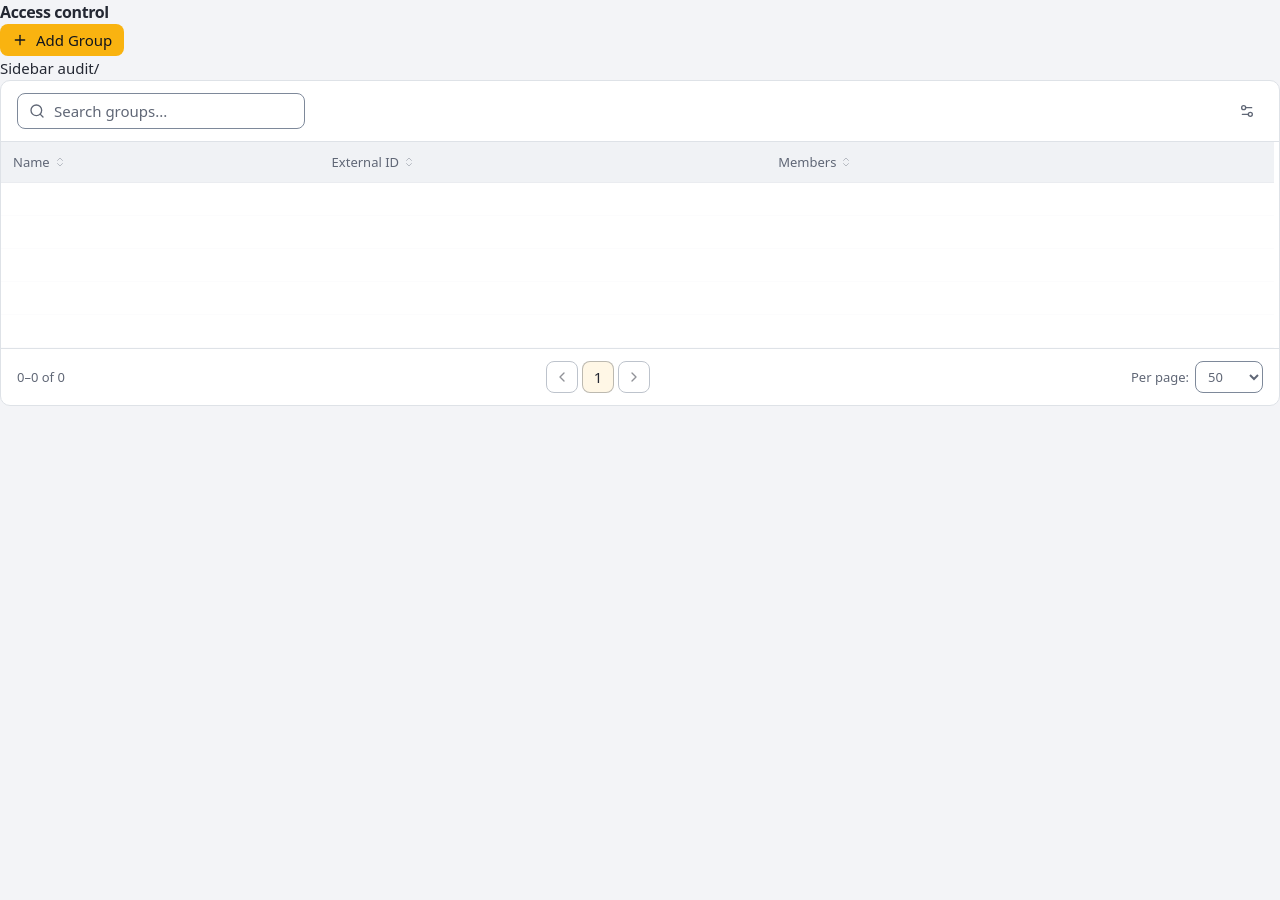
Test case: group editor › owns the visible page heading and associates its fields
Click the button "Add Group" at (62, 40), box x1=0 y1=24 x2=124 y2=56
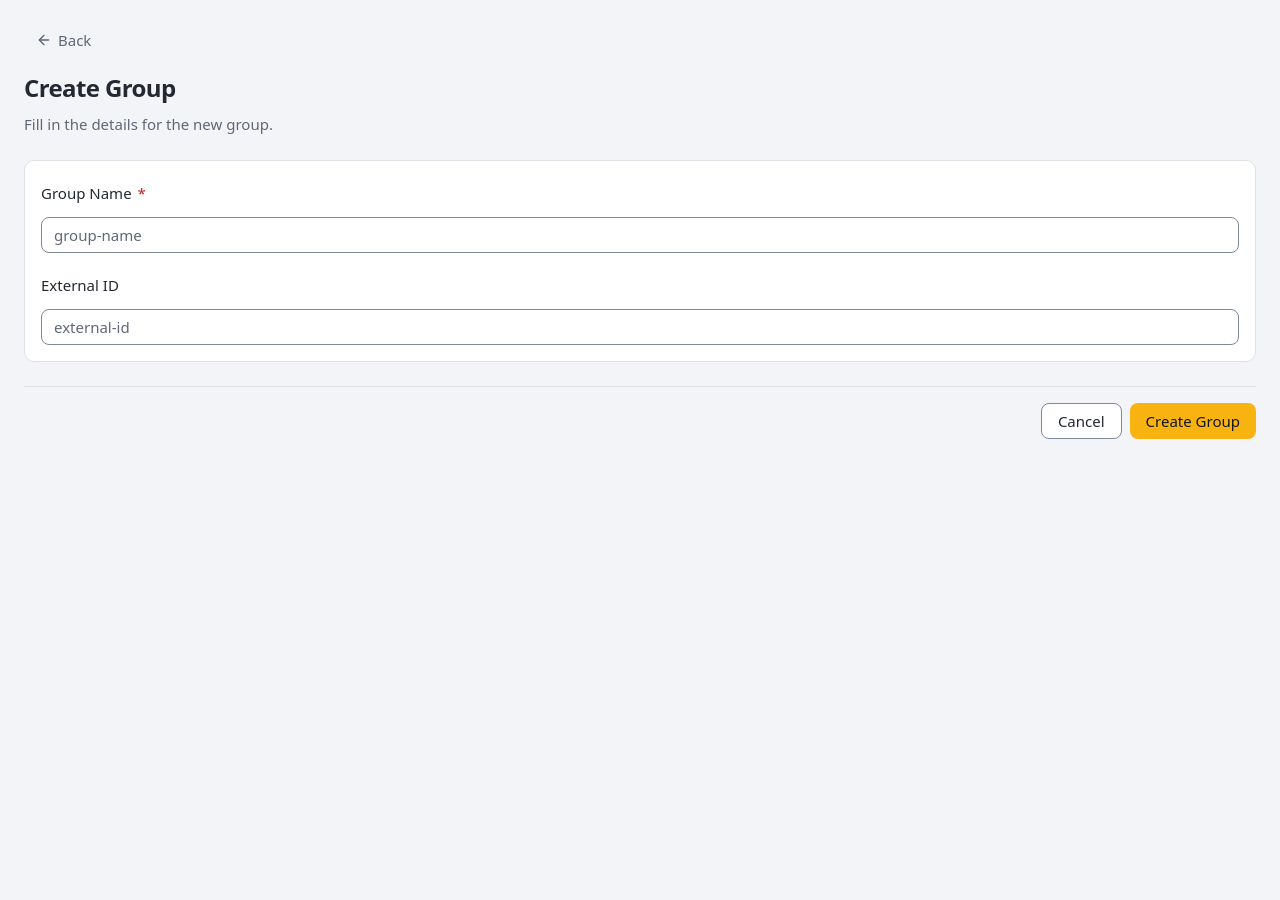
Now the heading "Create Group" is shown, box x1=24 y1=71 x2=176 y2=104
Type "Draft" into the field labelled "Group Name *" at (640, 235), box x1=41 y1=217 x2=1239 y2=253
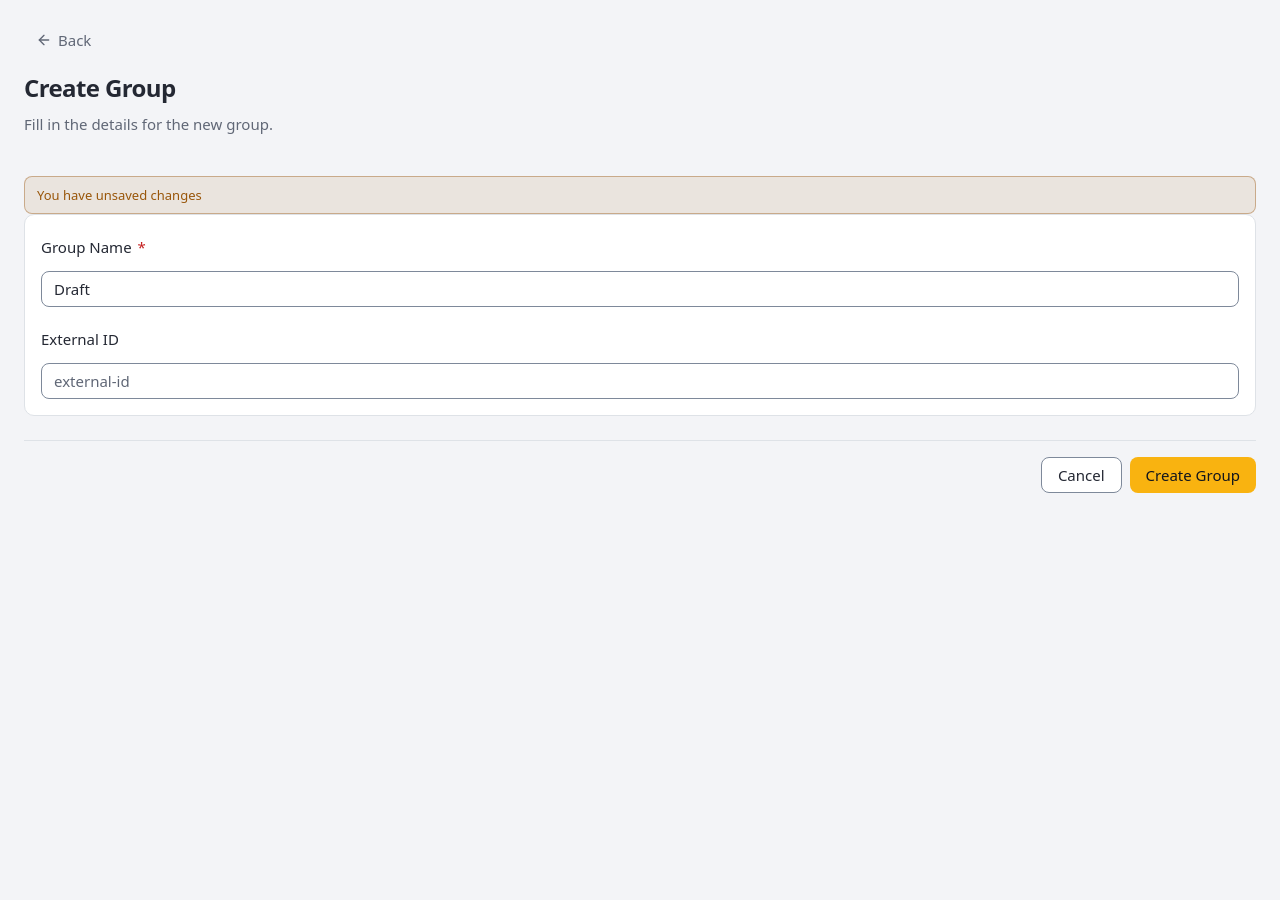
Click the button "Cancel" at (1081, 475), box x1=1041 y1=457 x2=1122 y2=493
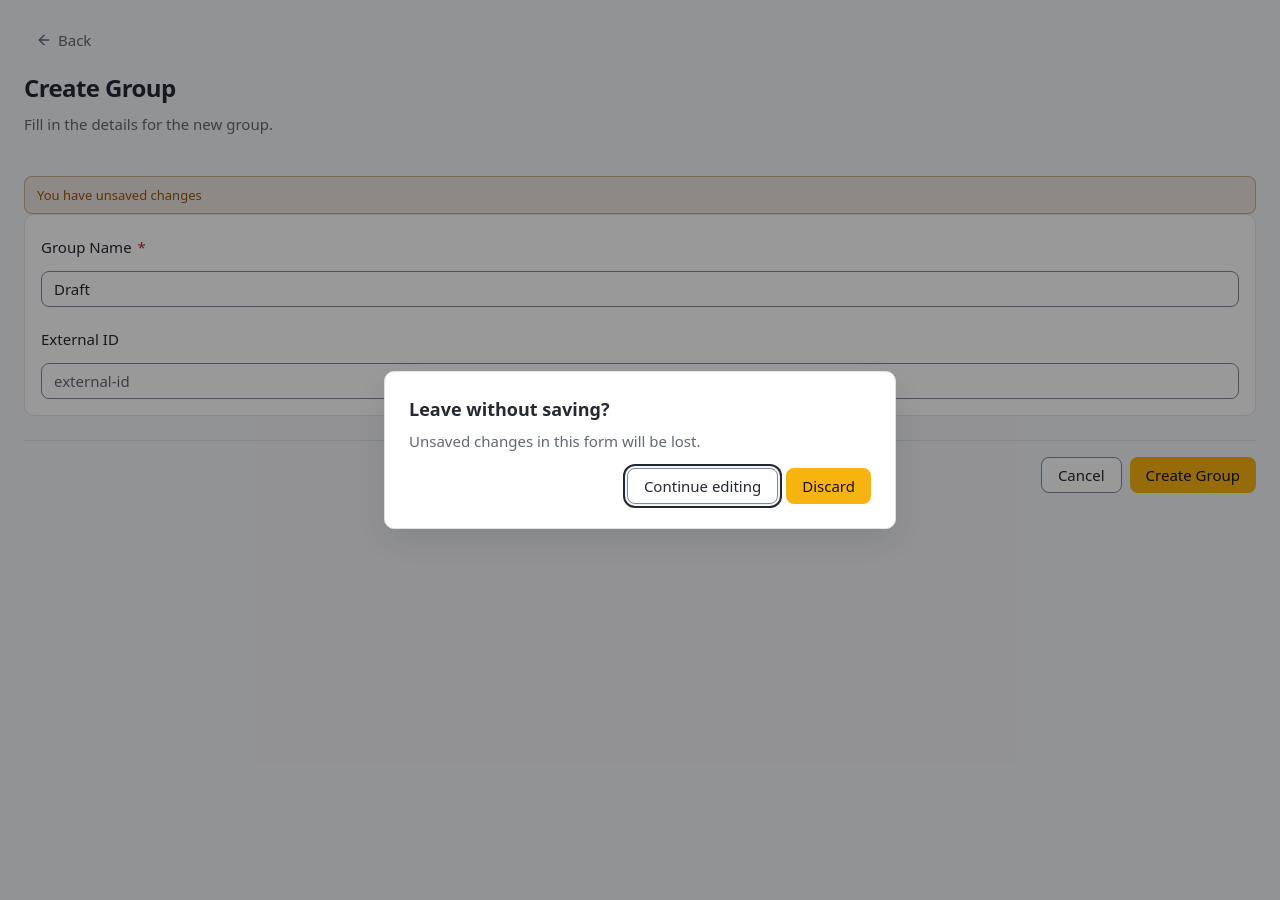
Now the dialog is shown, box x1=384 y1=371 x2=896 y2=529
Click the button "Discard" at (829, 486), box x1=786 y1=468 x2=871 y2=504
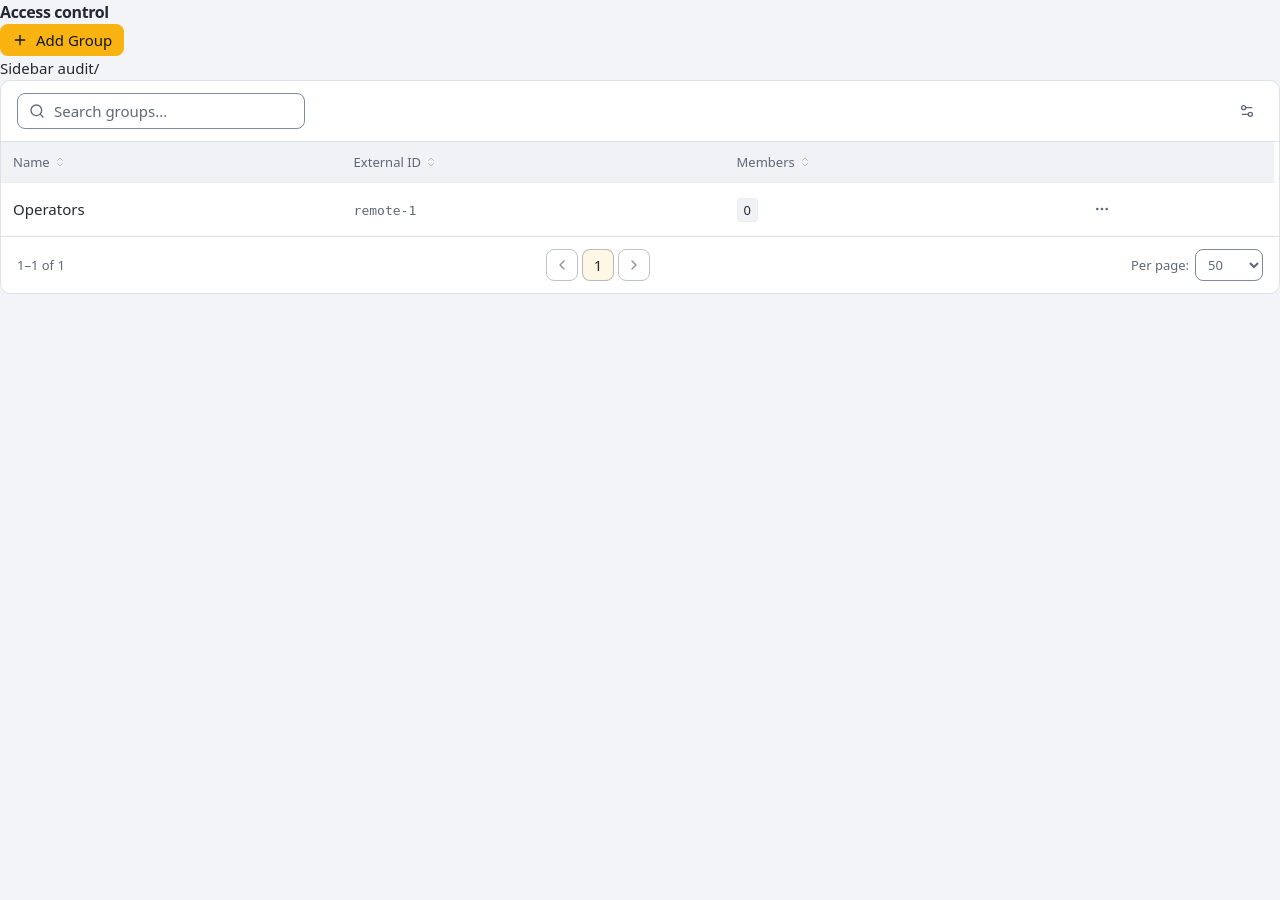
Expected: the heading "Access control" is shown, x1=0 y1=0 x2=109 y2=24
Now the element with test id "entity-editor-page" is gone
